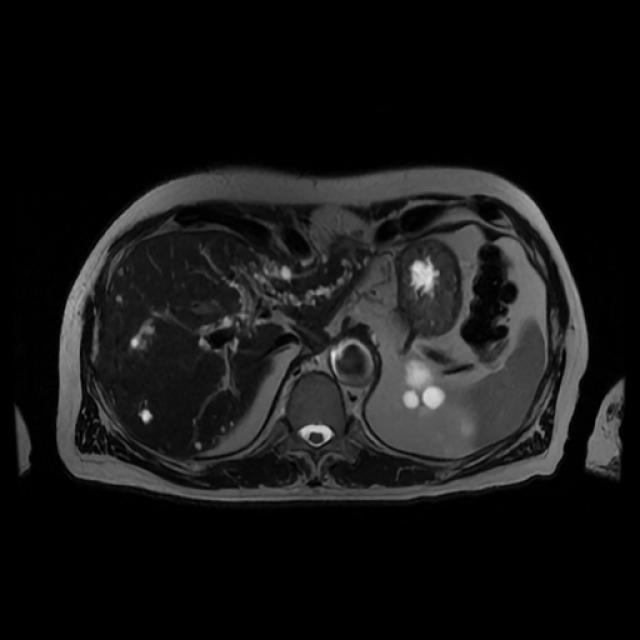sol: (403, 362, 447, 410), (462, 419, 477, 436)
